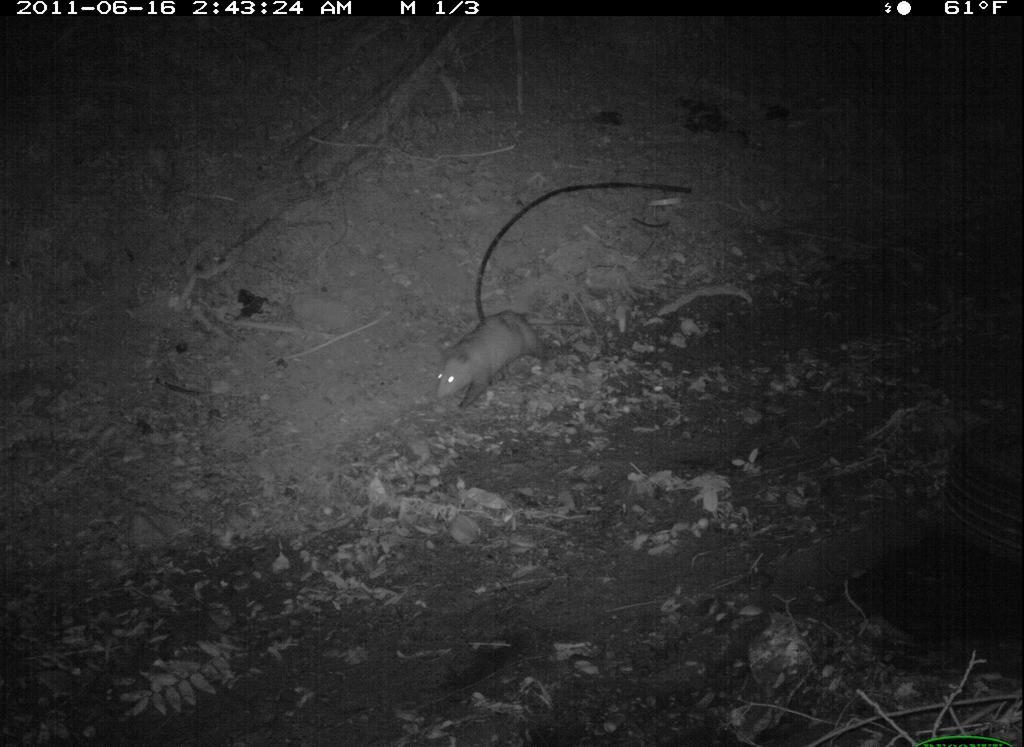opossum: (432, 308, 587, 410)
